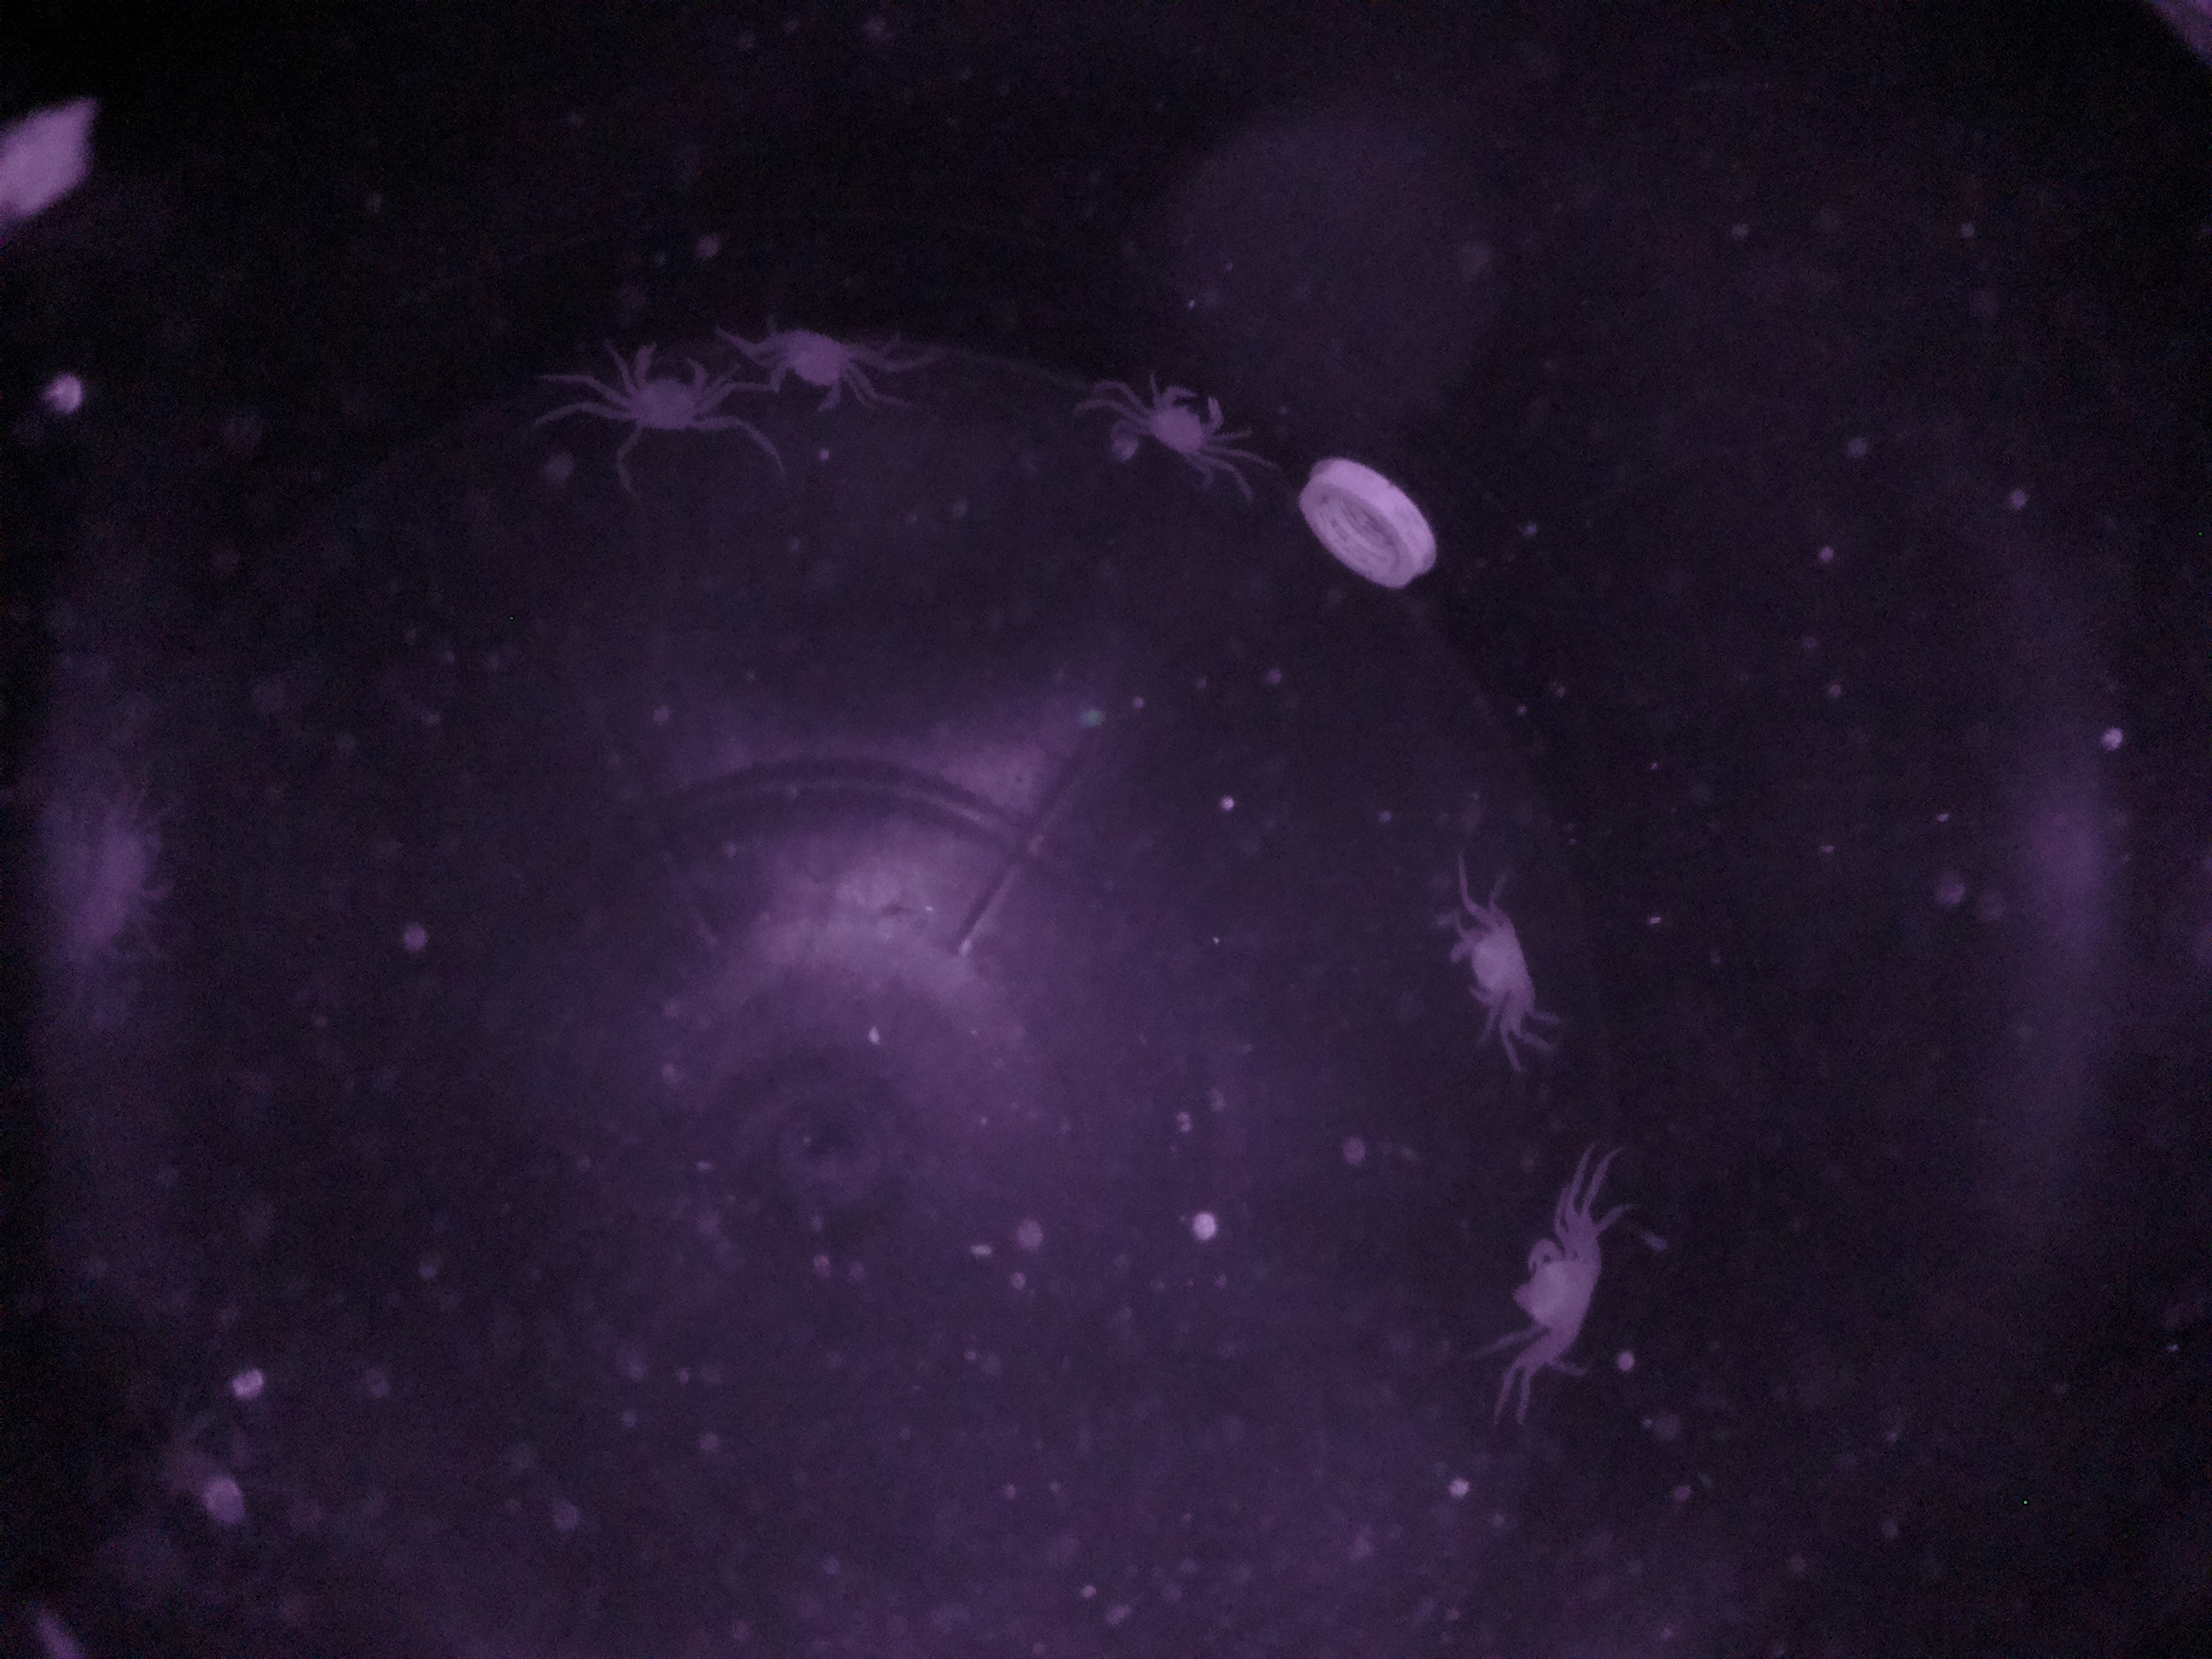Crab: (1491, 1208, 1632, 1380), (735, 281, 876, 451), (599, 321, 745, 474), (1430, 887, 1559, 1051), (1130, 361, 1237, 514)
